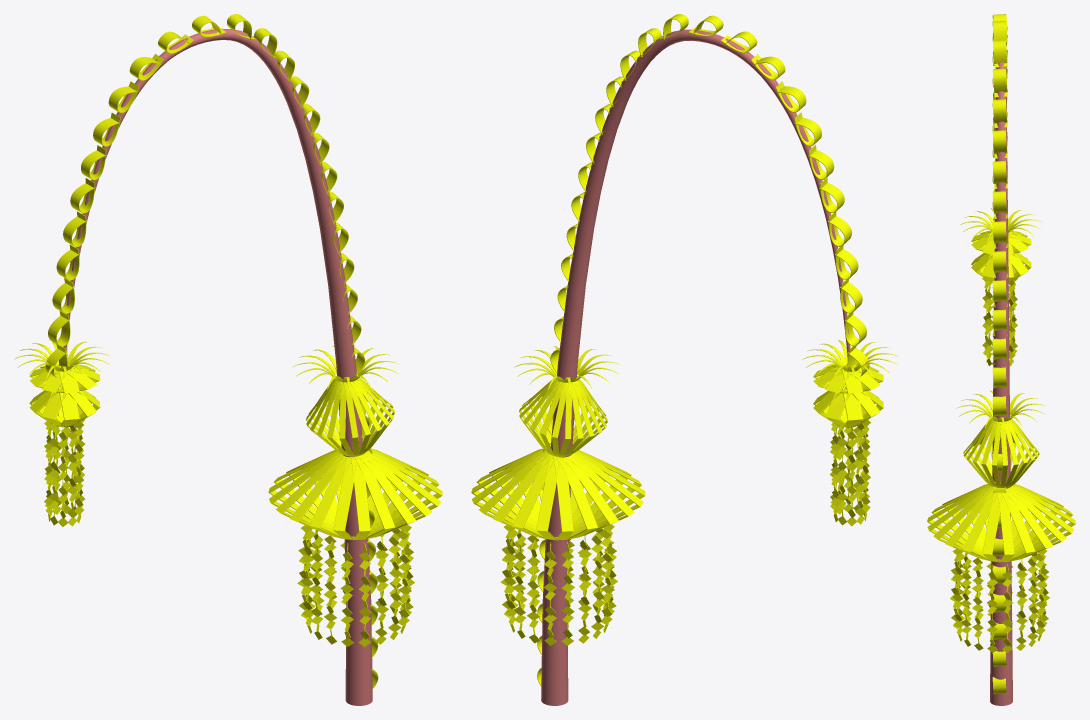
The model's file is penjor.glb.
3 views of the same model, side by side, from view 1: azimuth 30°, elevation 25°; view 2: azimuth 150°, elevation 25°; view 3: azimuth 270°, elevation 25° (orthographic). The views are drawn at different scales.
Parts seen in each view (by area): view 1: Cloner_7_Mat.1_0, Sweep_Mat_0; view 2: Cloner_7_Mat.1_0, Sweep_Mat_0; view 3: Cloner_7_Mat.1_0, Sweep_Mat_0.
Boxes of the visible parts, x1,y1,x2,y2 form: Cloner_7_Mat.1_0: [14, 14, 442, 688]; Sweep_Mat_0: [63, 28, 372, 705]; Cloner_7_Mat.1_0: [471, 14, 897, 685]; Sweep_Mat_0: [541, 29, 850, 705]; Cloner_7_Mat.1_0: [927, 14, 1075, 694]; Sweep_Mat_0: [990, 62, 1012, 705].
Bounding box in the file's own units: 0.9071 × 1.52 × 0.3342.
